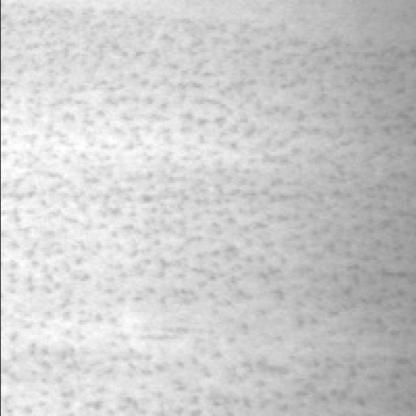pitted_surface: (2, 6, 416, 414)
